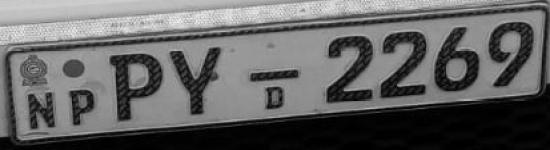-: (243, 64, 303, 84)
2: (318, 32, 378, 108), (379, 24, 434, 102)
6: (482, 16, 538, 94), (431, 19, 485, 97)
N: (23, 88, 63, 134)
P: (105, 48, 166, 130), (66, 86, 100, 130)
Y: (165, 44, 231, 121)
